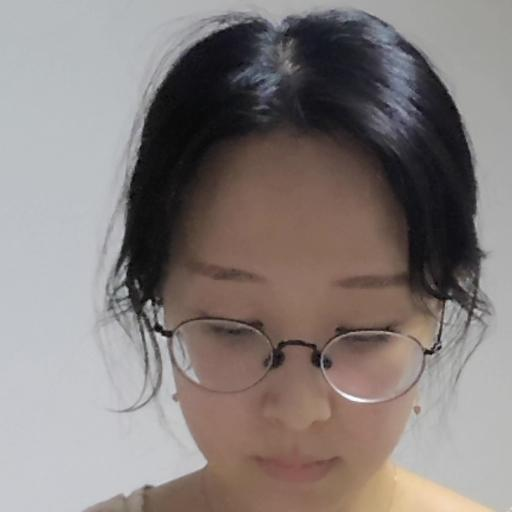no_glasses: (130, 7, 464, 505)
